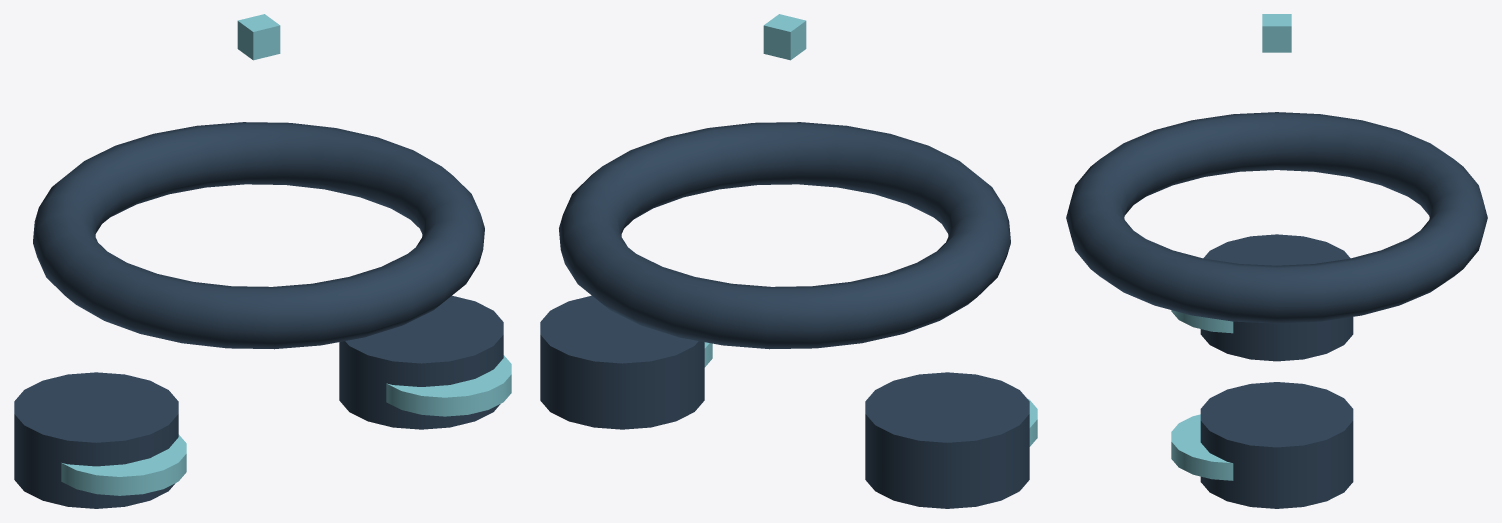
3 views of the same model, side by side, from view 1: azimuth 30°, elevation 25°; view 2: azimuth 150°, elevation 25°; view 3: azimuth 270°, elevation 25° (orthographic). The views are drawn at different scales.
Visible parts, largest first — view 1: headphone-body, earcup-left, earcup-right, earpad-left, earpad-right, headphone-trim; view 2: headphone-body, earcup-left, earcup-right, headphone-trim; view 3: headphone-body, earcup-right, earcup-left, earpad-right, headphone-trim, earpad-left.
Boxes of the visible parts, left/top/right/bottom form: headphone-body: left=33, top=122, right=484, bottom=349; earcup-left: left=14, top=372, right=178, bottom=508; earcup-right: left=339, top=295, right=503, bottom=429; earpad-left: left=61, top=434, right=186, bottom=495; earpad-right: left=386, top=355, right=511, bottom=416; headphone-trim: left=237, top=14, right=280, bottom=60; headphone-body: left=559, top=122, right=1010, bottom=349; earcup-left: left=865, top=372, right=1029, bottom=508; earcup-right: left=540, top=295, right=704, bottom=429; headphone-trim: left=763, top=14, right=806, bottom=60; headphone-body: left=1066, top=112, right=1487, bottom=323; earcup-right: left=1200, top=382, right=1353, bottom=508; earcup-left: left=1200, top=234, right=1353, bottom=361; earpad-right: left=1171, top=414, right=1233, bottom=480; headphone-trim: left=1262, top=14, right=1291, bottom=52; earpad-left: left=1171, top=310, right=1233, bottom=333.
Bounding box in the file's own units: 0.208 × 0.174 × 0.174.
